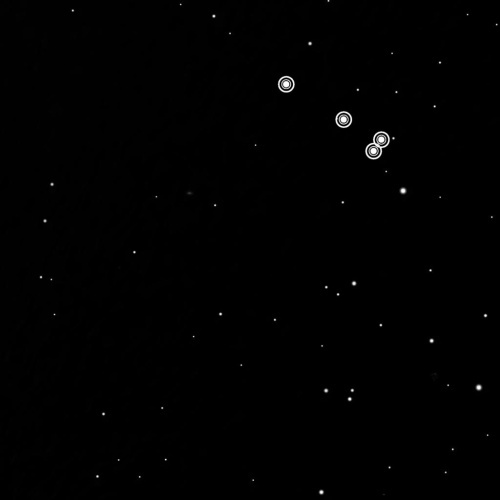sagitta: (272, 69, 402, 169)
